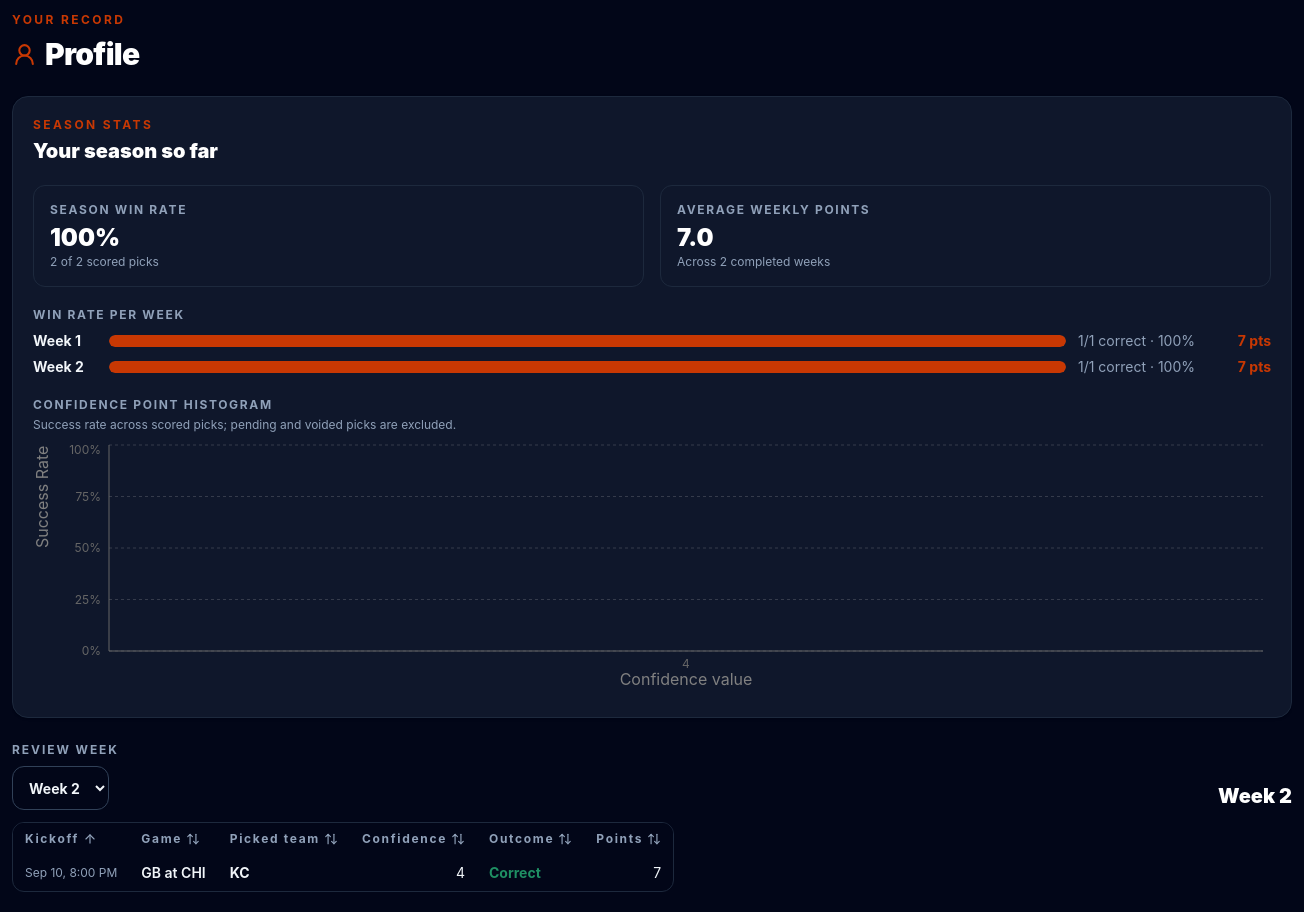
Scenario: ProfilePage › defaults to the latest week and switches the reviewed week
Expected: the column heading "GB at CHI" is shown, x1=129 y1=855 x2=218 y2=891
Expected: the text "BUF at KC" is not shown
Select "Week 1" in the dropdown labelled "Review week" at (60, 788), box x1=12 y1=766 x2=109 y2=810
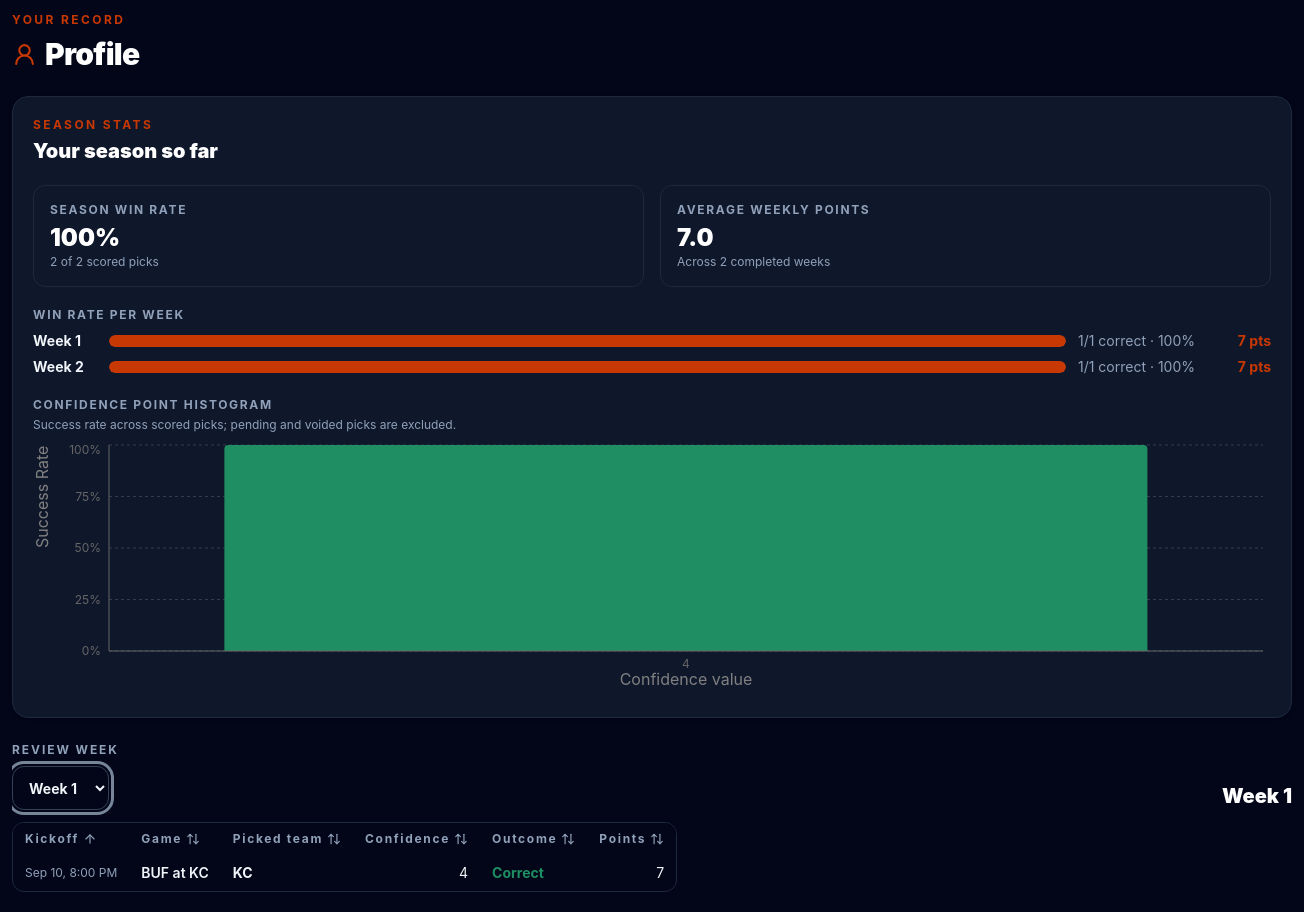
Expected: the column heading "BUF at KC" is shown, x1=129 y1=855 x2=221 y2=891
Expected: the column heading "GB at CHI" is gone
